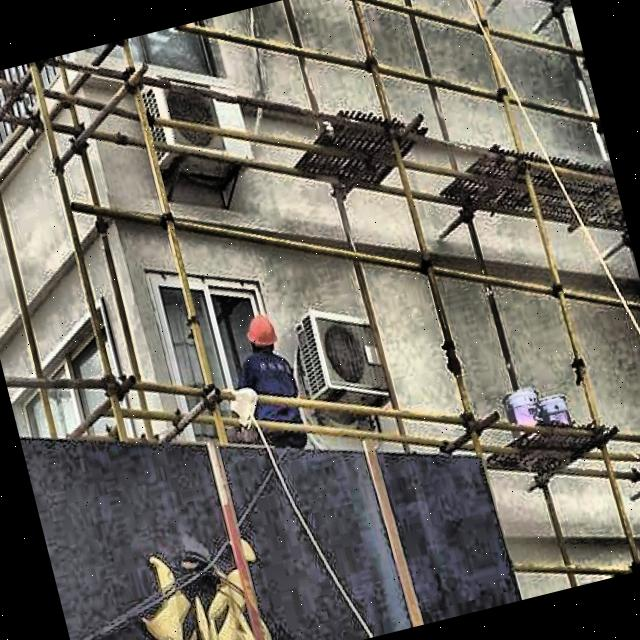helmet: (242, 310, 284, 361)
